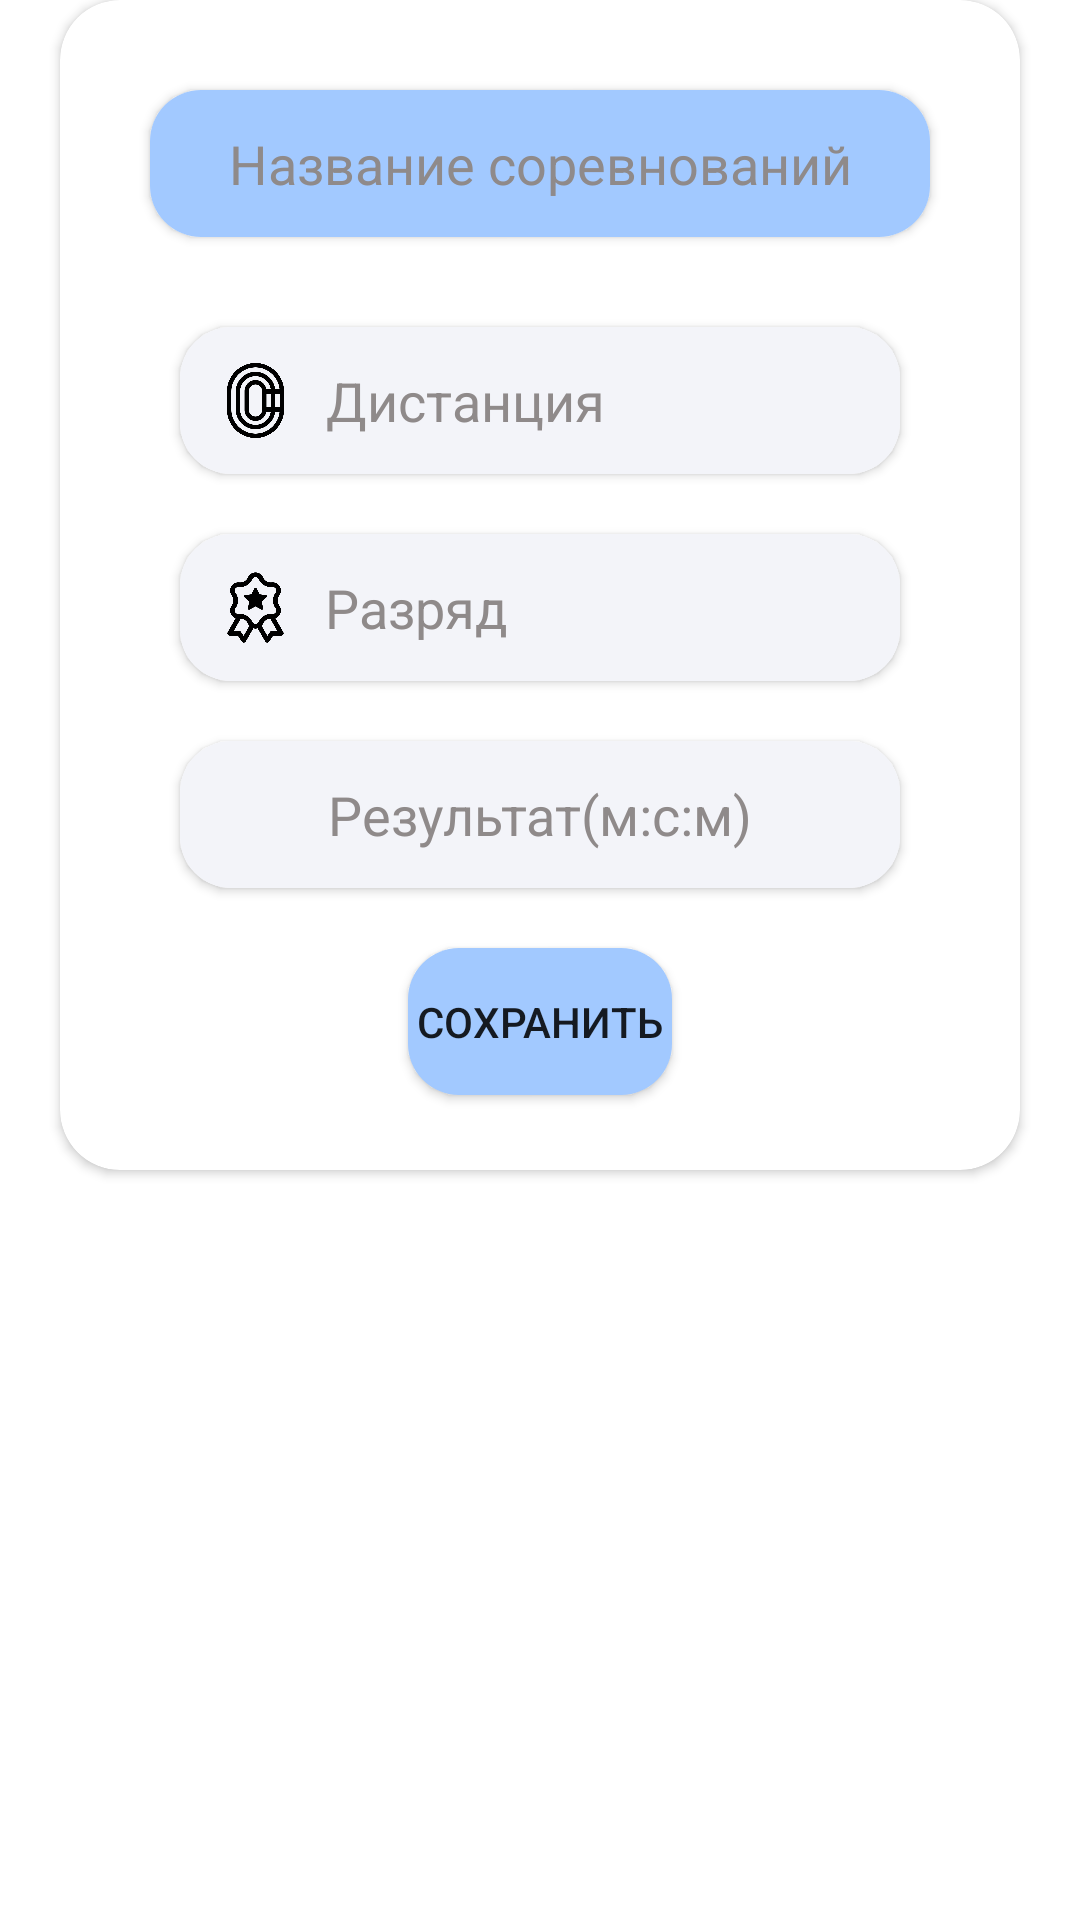

Screen size 1080w x 1920h. Icon name, then its box in pixels as (x1, y1, x2, y2):
running track: (227, 363, 284, 438)
